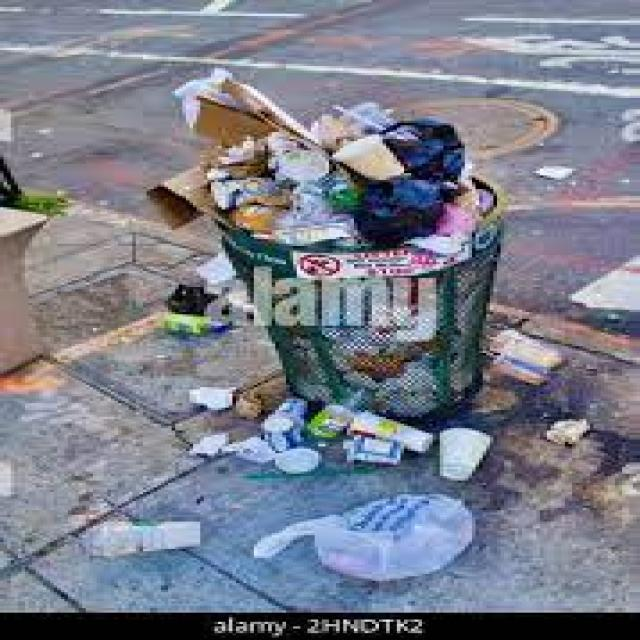Garbage: (149, 70, 504, 473), (253, 494, 475, 580), (80, 519, 202, 556), (163, 285, 218, 334), (440, 429, 491, 480), (190, 388, 234, 409), (547, 420, 587, 442)
